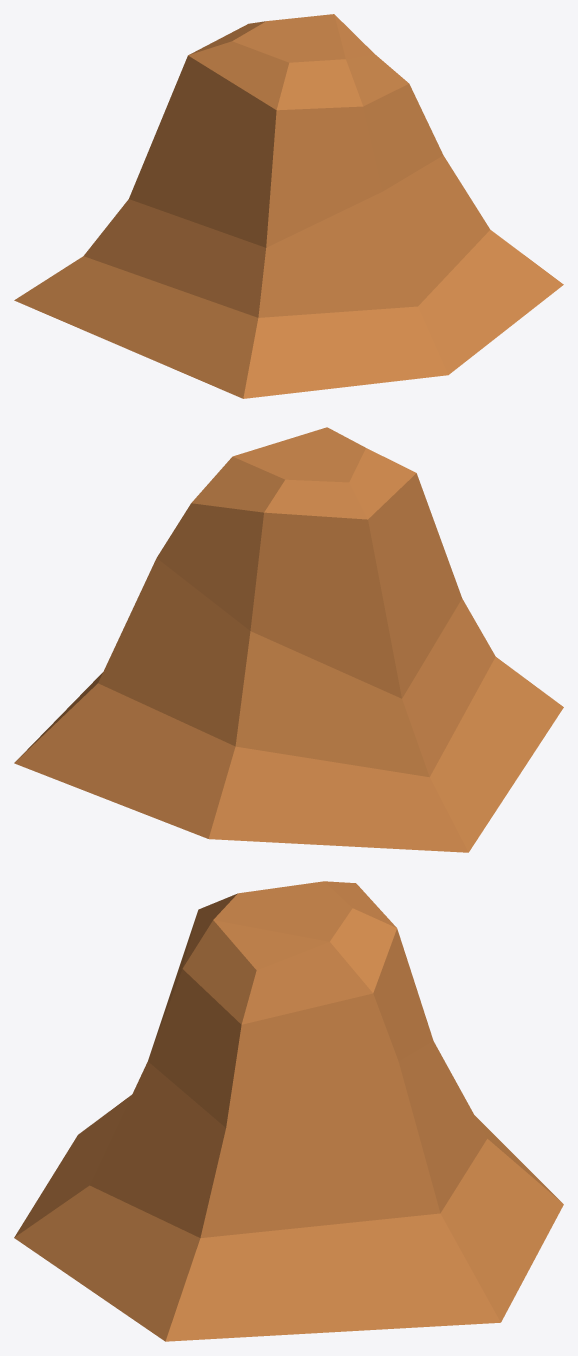
The model's file is ErectRock_low.fbx.
The picture shows the model from 3 angles, top to bottom: view 1: azimuth 30°, elevation 25°; view 2: azimuth 150°, elevation 25°; view 3: azimuth 270°, elevation 25°; orthographic projection. The views are drawn at different scales.
Parts seen in each view (by area): view 1: 平面.015; view 2: 平面.015; view 3: 平面.015.
Part boxes in pixels (x1,y1,x2,y2): 平面.015: [14, 14, 563, 398]; 平面.015: [14, 427, 563, 852]; 平面.015: [14, 881, 563, 1341].
Size of the model in its own units: 146 by 137 by 84.58.
